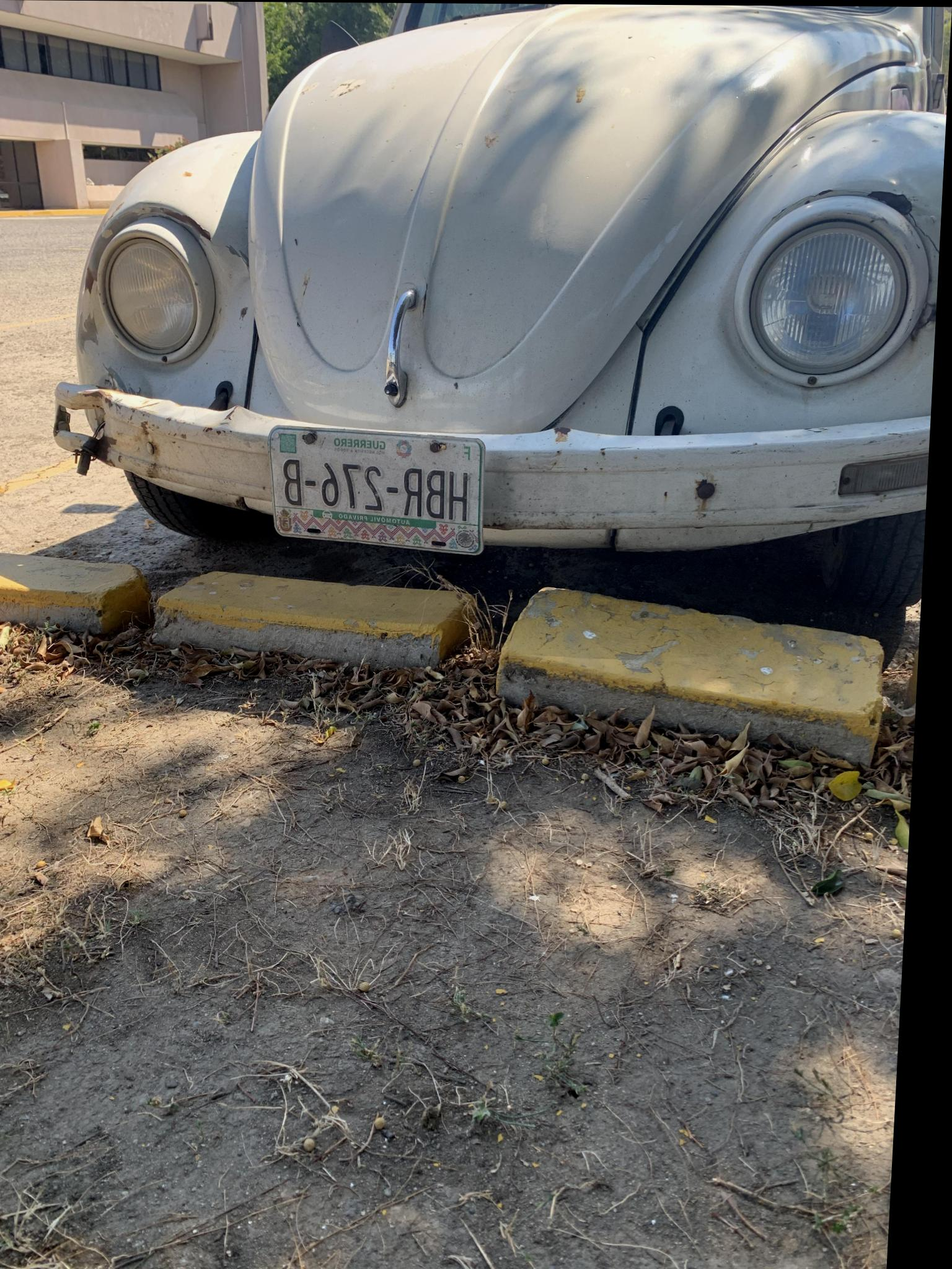License_Plate: (255, 433, 509, 564)
